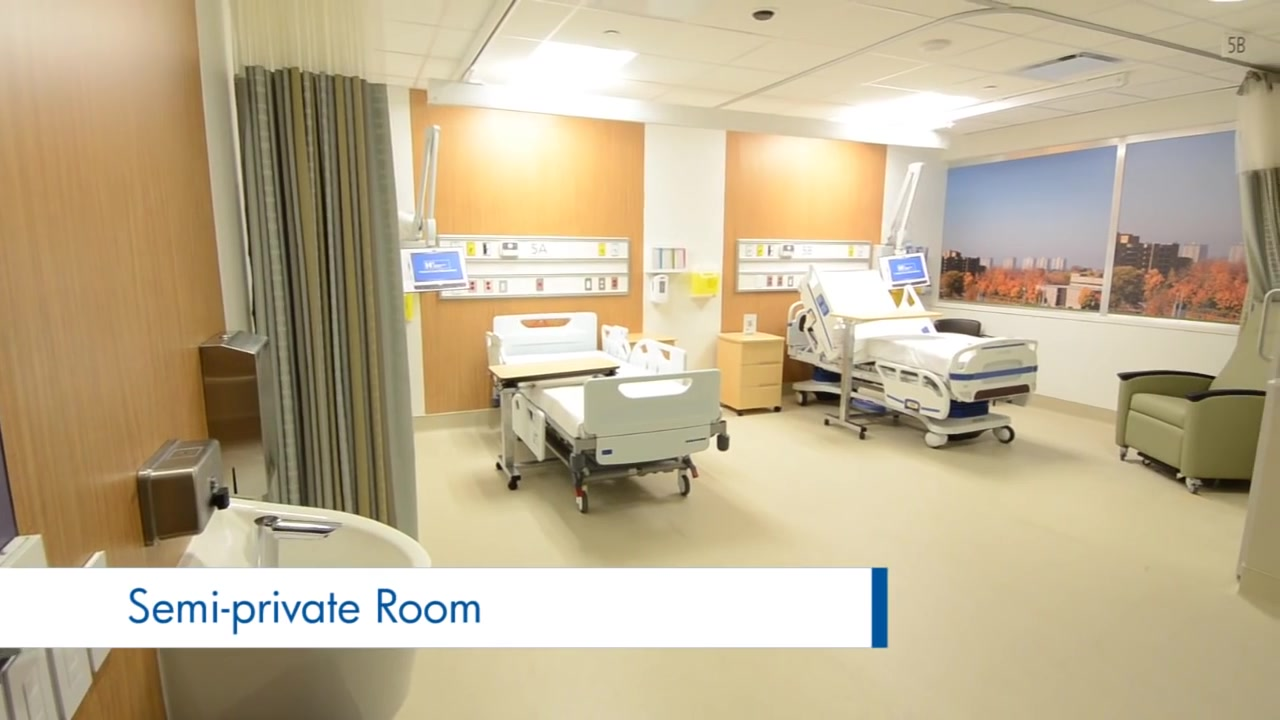bedrail: (872, 359, 952, 420), (797, 265, 842, 365), (626, 339, 689, 383), (895, 282, 942, 337), (512, 392, 547, 463), (600, 324, 631, 363), (484, 330, 503, 379)
bedside_monitor: (398, 248, 469, 293), (879, 252, 932, 289)
bedside_table: (717, 331, 786, 415), (625, 331, 679, 359)
chair: (934, 318, 982, 337)
curtain: (232, 1, 419, 544), (1233, 68, 1280, 349)
dispenser: (198, 330, 278, 500), (646, 247, 687, 274), (649, 273, 669, 306)
faucet: (251, 510, 344, 574)
foot_board: (583, 369, 721, 437), (947, 335, 1039, 404)
handle: (1256, 288, 1280, 368)
hospital_bed: (486, 312, 731, 513), (786, 265, 1039, 452)
medical_waste_container: (688, 270, 720, 299)
overbed_table: (488, 357, 620, 490), (822, 303, 944, 440)
sink: (189, 496, 433, 571)
sofa: (1111, 298, 1280, 494)
